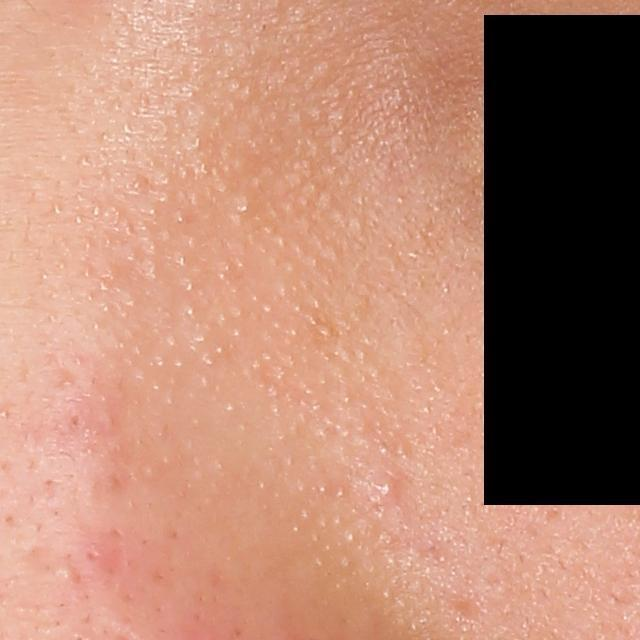papule: (373, 474, 403, 504)
